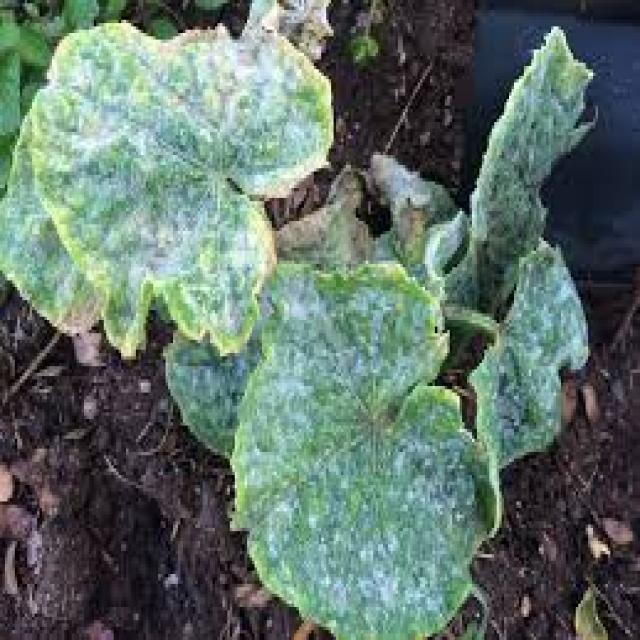powdery_mildew: (14, 17, 334, 358), (221, 266, 509, 620), (454, 52, 609, 452)
